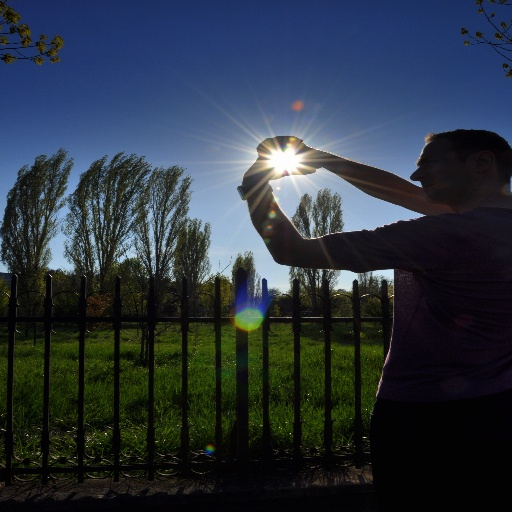hand: (239, 137, 319, 181), (281, 135, 319, 175)
